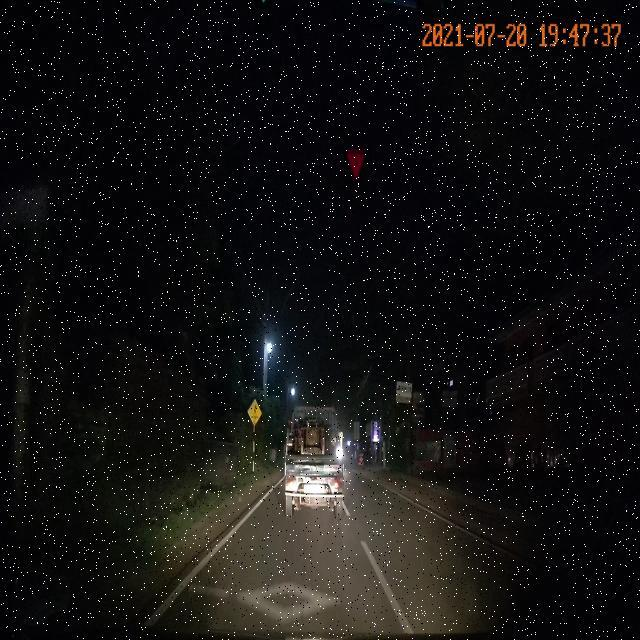diamond: (140, 579, 411, 630)
